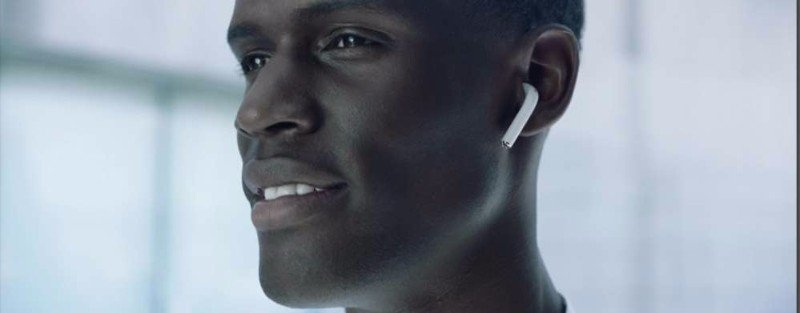earphone: (500, 22, 580, 151)
